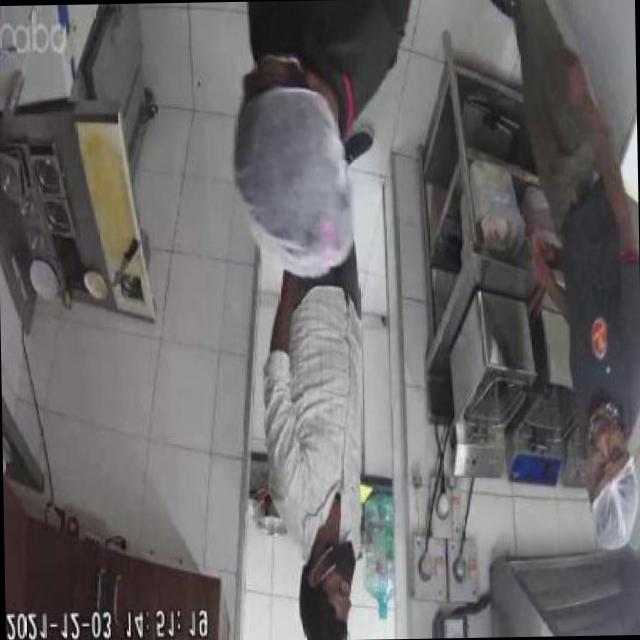hairnet: (234, 90, 344, 257), (595, 461, 638, 550)
